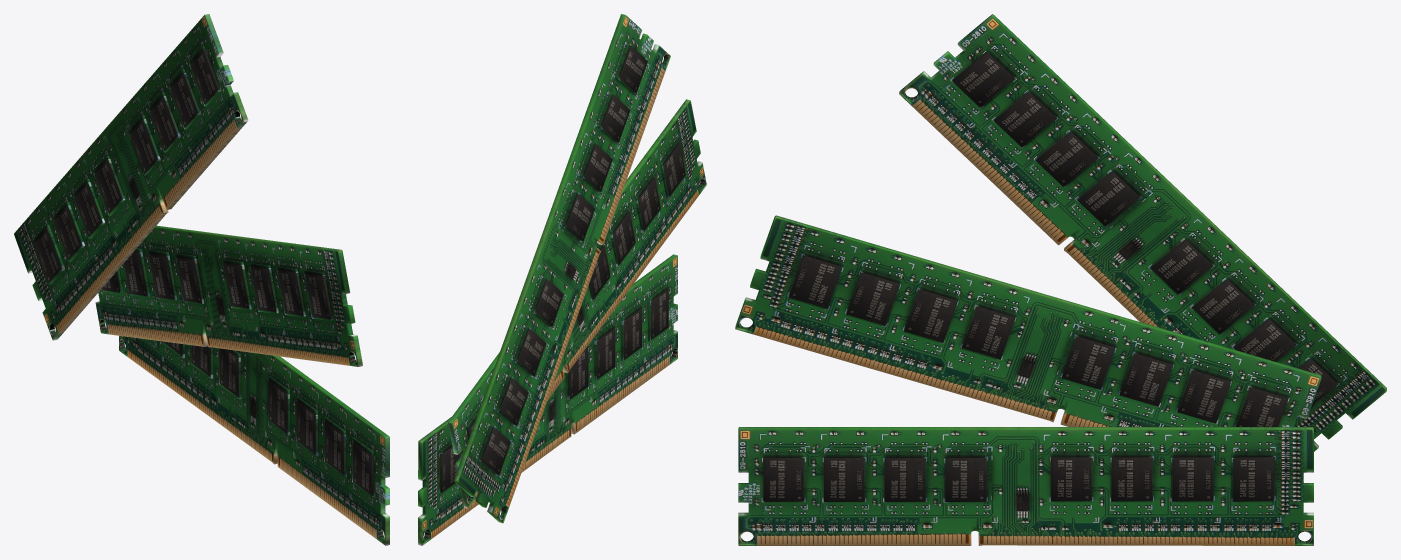
File: 13ramstick.glb
The picture shows the model from 3 angles, left to right: view 1: azimuth 30°, elevation 25°; view 2: azimuth 150°, elevation 25°; view 3: azimuth 270°, elevation 25°; orthographic projection. The views are drawn at different scales.
Parts seen in each view (by area): view 1: Cube.003, Cube.002, Cube; view 2: Cube.003, Cube, Cube.002; view 3: Cube, Cube.002, Cube.003.
Part boxes in pixels (<box>): Cube.003: <box>14,14,248,340</box>; Cube.002: <box>95,225,362,366</box>; Cube: <box>119,336,389,545</box>; Cube.003: <box>454,14,670,523</box>; Cube: <box>418,254,677,545</box>; Cube.002: <box>448,99,706,508</box>; Cube: <box>738,427,1313,545</box>; Cube.002: <box>735,215,1321,426</box>; Cube.003: <box>899,14,1386,451</box>.
Bounding box in the file's own units: 0.825 × 4.43 × 5.27.
Materials: 1 (1 with a texture image).
